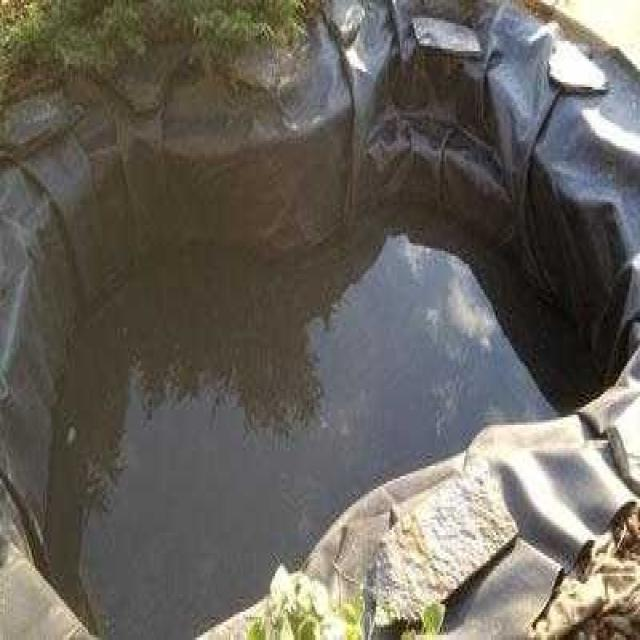Ponds: (31, 204, 608, 640)
